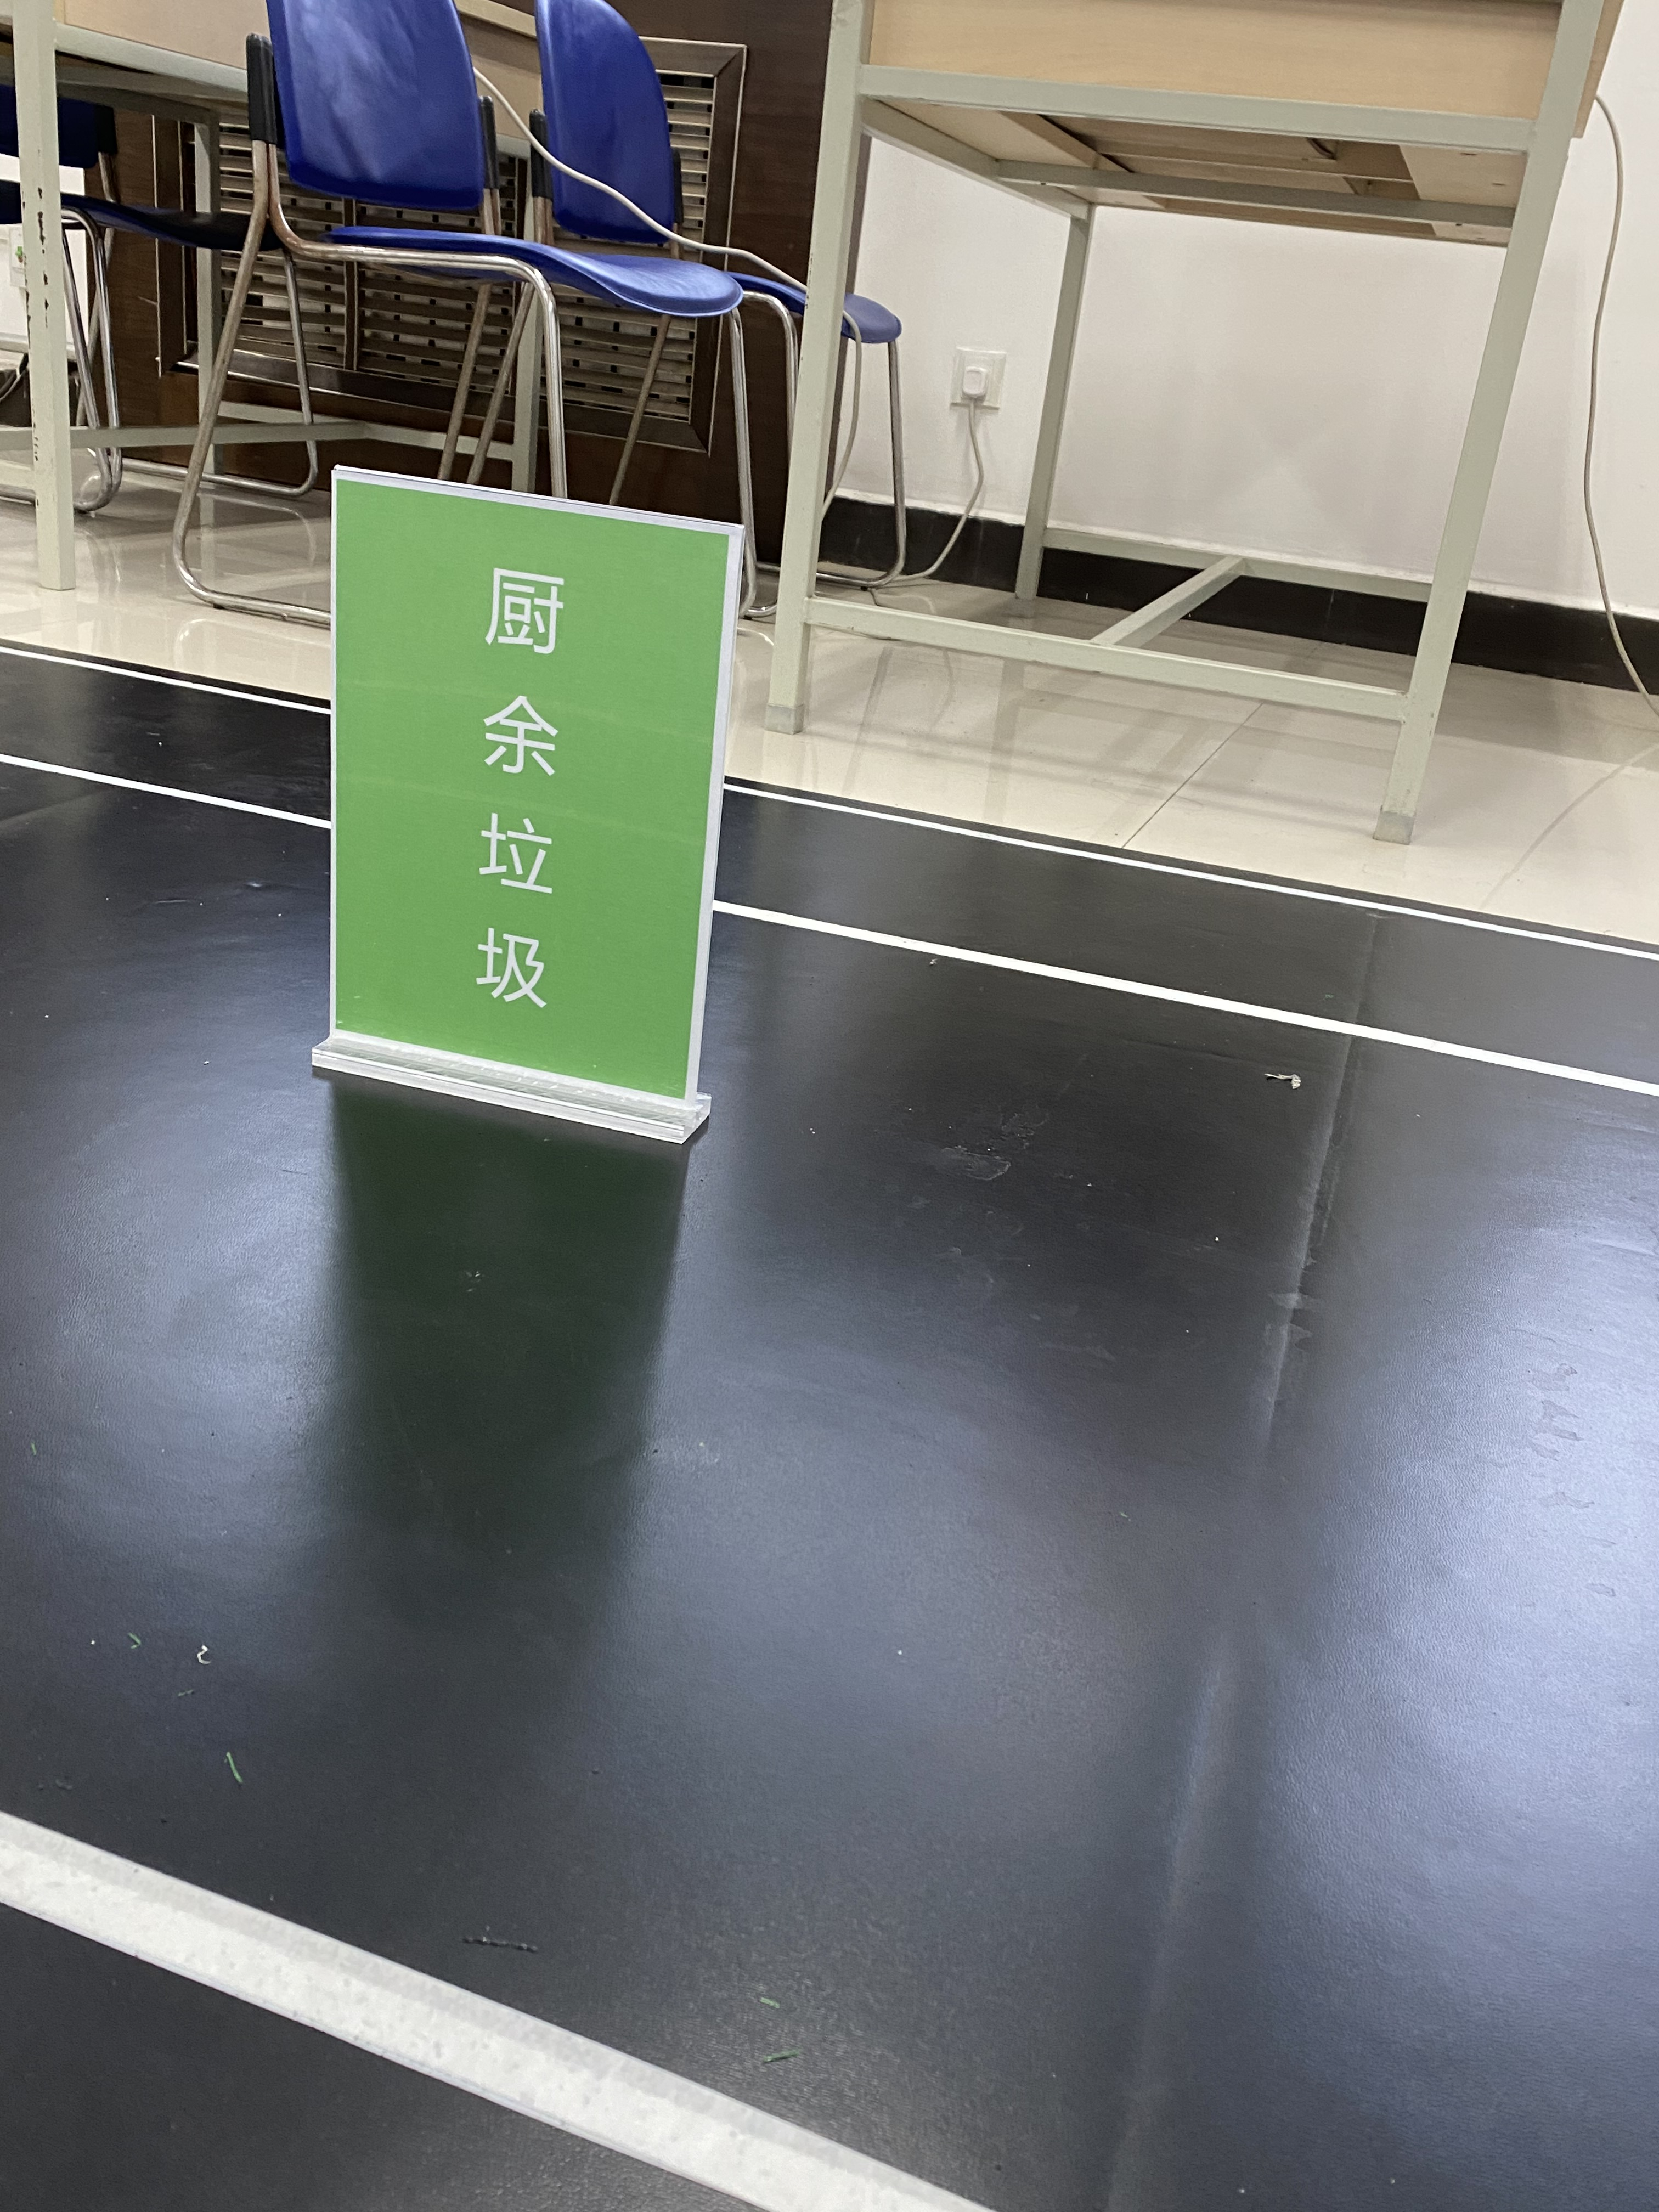green: (364, 498, 687, 1057)
